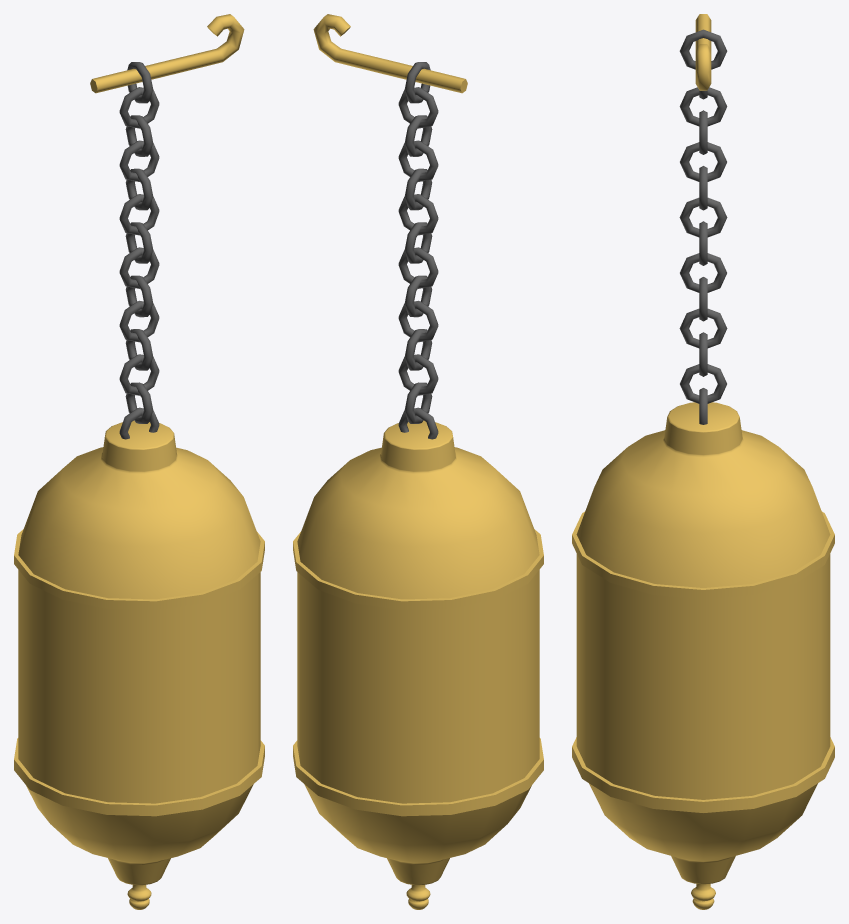
Rendered from LampPlafond_01_B.fbx.
The picture shows the model from 3 angles, left to right: view 1: azimuth 30°, elevation 25°; view 2: azimuth 150°, elevation 25°; view 3: azimuth 270°, elevation 25°; orthographic projection. The views are drawn at different scales.
Parts seen in each view (by area): view 1: Lamp Plafond_01_B; view 2: Lamp Plafond_01_B; view 3: Lamp Plafond_01_B.
Boxes of the visible parts, box(x1,y1,x2,y2) form: Lamp Plafond_01_B: box(14, 14, 264, 909); Lamp Plafond_01_B: box(293, 14, 543, 909); Lamp Plafond_01_B: box(572, 14, 834, 909).
Size of the model in its own units: 0.3391 by 1.29 by 0.3391.
